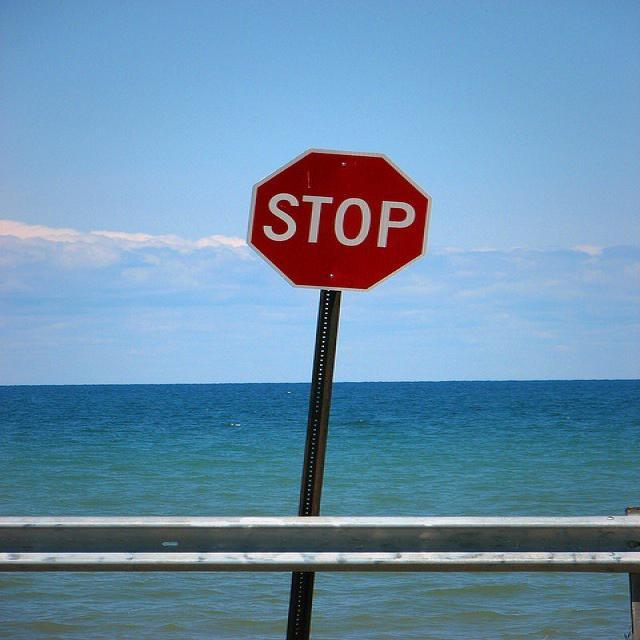stop: (246, 147, 431, 291)
